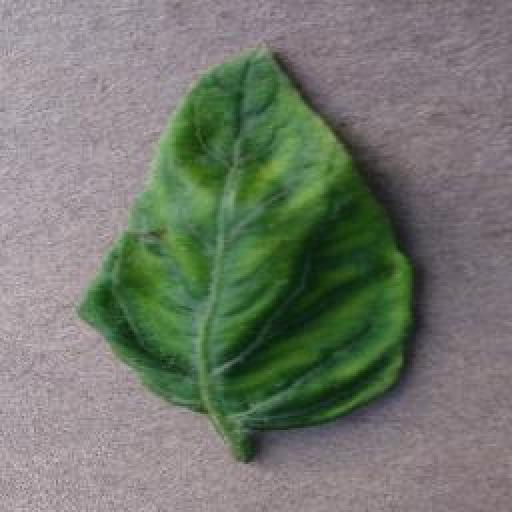Yellow Leaf Curl Virus: (71, 47, 416, 424)
